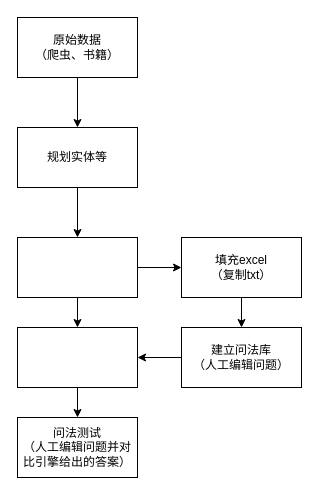
The diagram is 319 pixels wide and 495 high, and some of its shapes have lost their labels. The shapes that lost their labels are listed below. From the top down, each one's centre as x and y in pixels, then its label:
At (x=77, y=267): "从原始数据中根据规划进行三元组提取".
At (x=77, y=357): "引擎：更新三元组和问法库".
